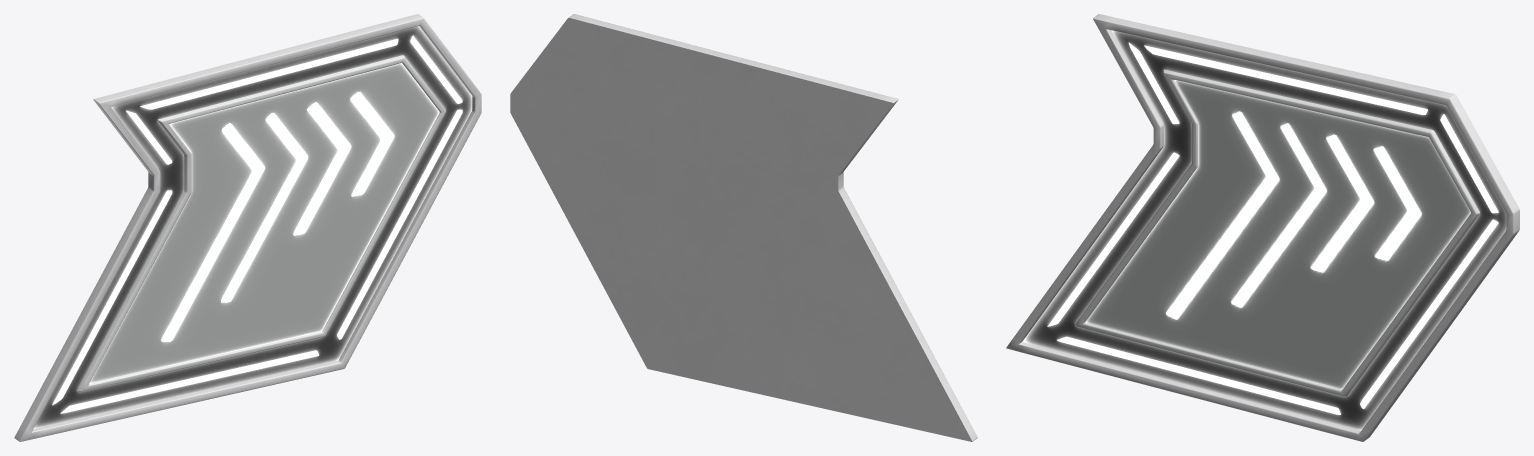
The model's file is BarSign02.FBX.
The picture shows the model from 3 angles, left to right: view 1: azimuth 30°, elevation 25°; view 2: azimuth 150°, elevation 25°; view 3: azimuth 330°, elevation 25°; orthographic projection. The views are drawn at different scales.
Visible parts, largest first — view 1: BarSign02; view 2: BarSign02; view 3: BarSign02.
Part boxes in pixels (bbox=[...]): BarSign02: bbox=[14, 14, 481, 441]; BarSign02: bbox=[510, 14, 977, 441]; BarSign02: bbox=[1006, 14, 1519, 441].
Size of what is drawn, in the model's own units: 2.18 by 1.5 by 0.0462.
